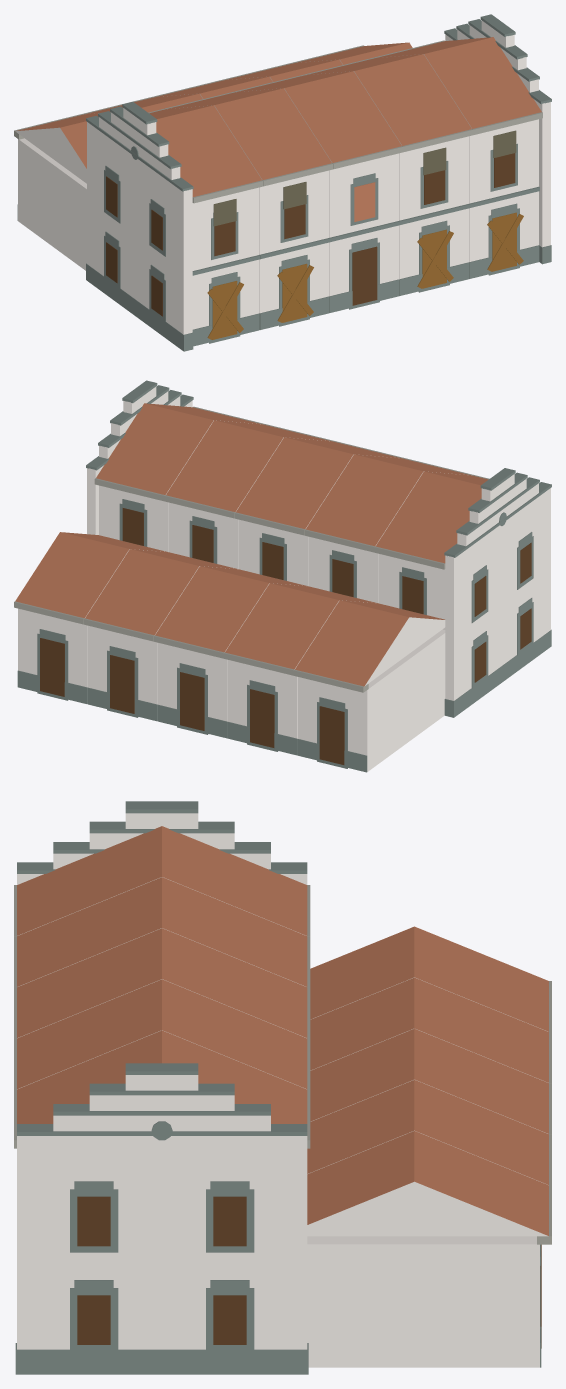
File: SM_EdificioViajerosNules_v0_Abandonada_LOD0.fbx
3 views of the same model, one above another, from view 1: azimuth 30°, elevation 25°; view 2: azimuth 150°, elevation 25°; view 3: azimuth 270°, elevation 25° (orthographic). The views are drawn at different scales.
Visible parts, largest first — view 1: SM_edificio_viajeros_nules_v0_LOD0; view 2: SM_edificio_viajeros_nules_v0_LOD0; view 3: SM_edificio_viajeros_nules_v0_LOD0.
Part boxes in pixels (x1,y1,x2,y2): SM_edificio_viajeros_nules_v0_LOD0: (14, 14, 551, 351); SM_edificio_viajeros_nules_v0_LOD0: (14, 380, 551, 772); SM_edificio_viajeros_nules_v0_LOD0: (14, 801, 551, 1374).
Size of the model in its own units: 21.12 by 11.17 by 17.8.
